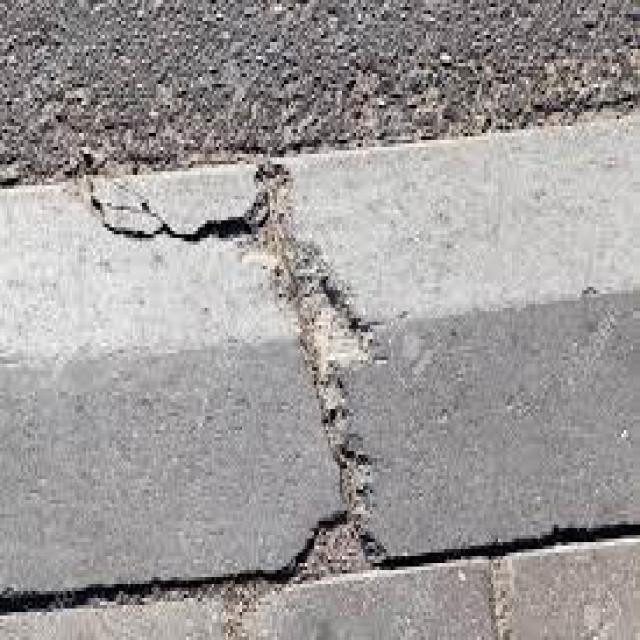curb: (5, 115, 634, 611)
